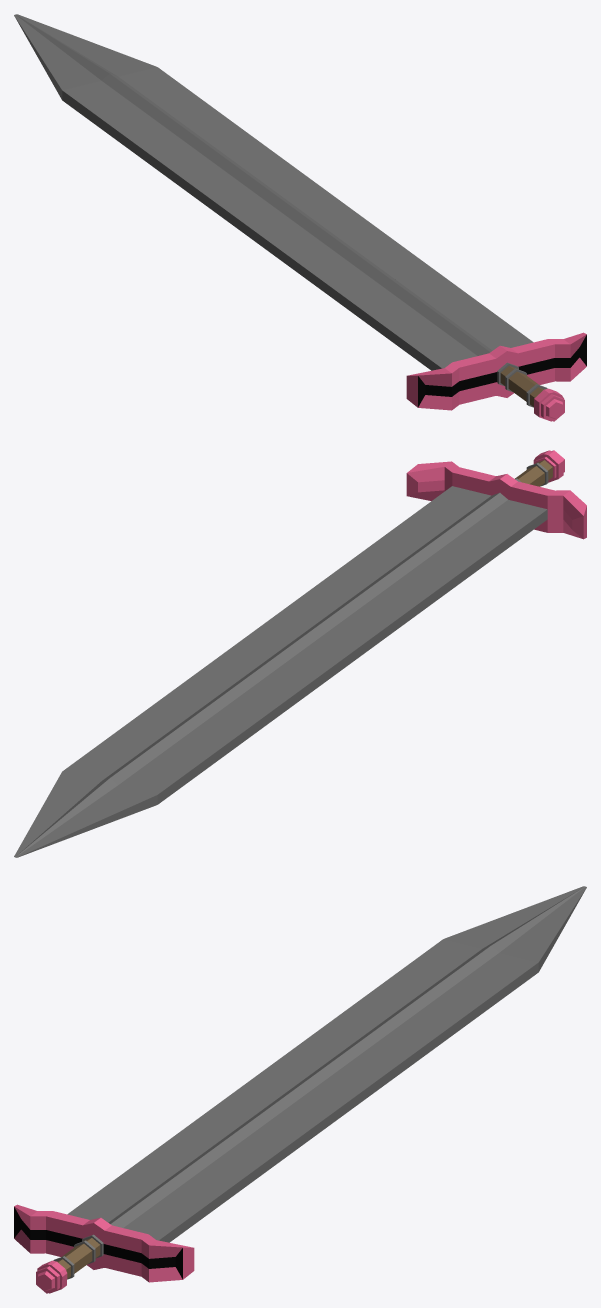
Rendered from kitassword.fbx.
3 views of the same model, one above another, from view 1: azimuth 30°, elevation 25°; view 2: azimuth 150°, elevation 25°; view 3: azimuth 330°, elevation 25° (orthographic).
Parts seen in each view (by area): view 1: Cylinder; view 2: Cylinder; view 3: Cylinder.
Part boxes in pixels (left/top/right/bottom): Cylinder: left=14, top=14, right=586, bottom=421; Cylinder: left=14, top=450, right=586, bottom=857; Cylinder: left=14, top=886, right=586, bottom=1293.
Bounding box in the file's own units: 1834 × 468 × 9704.
